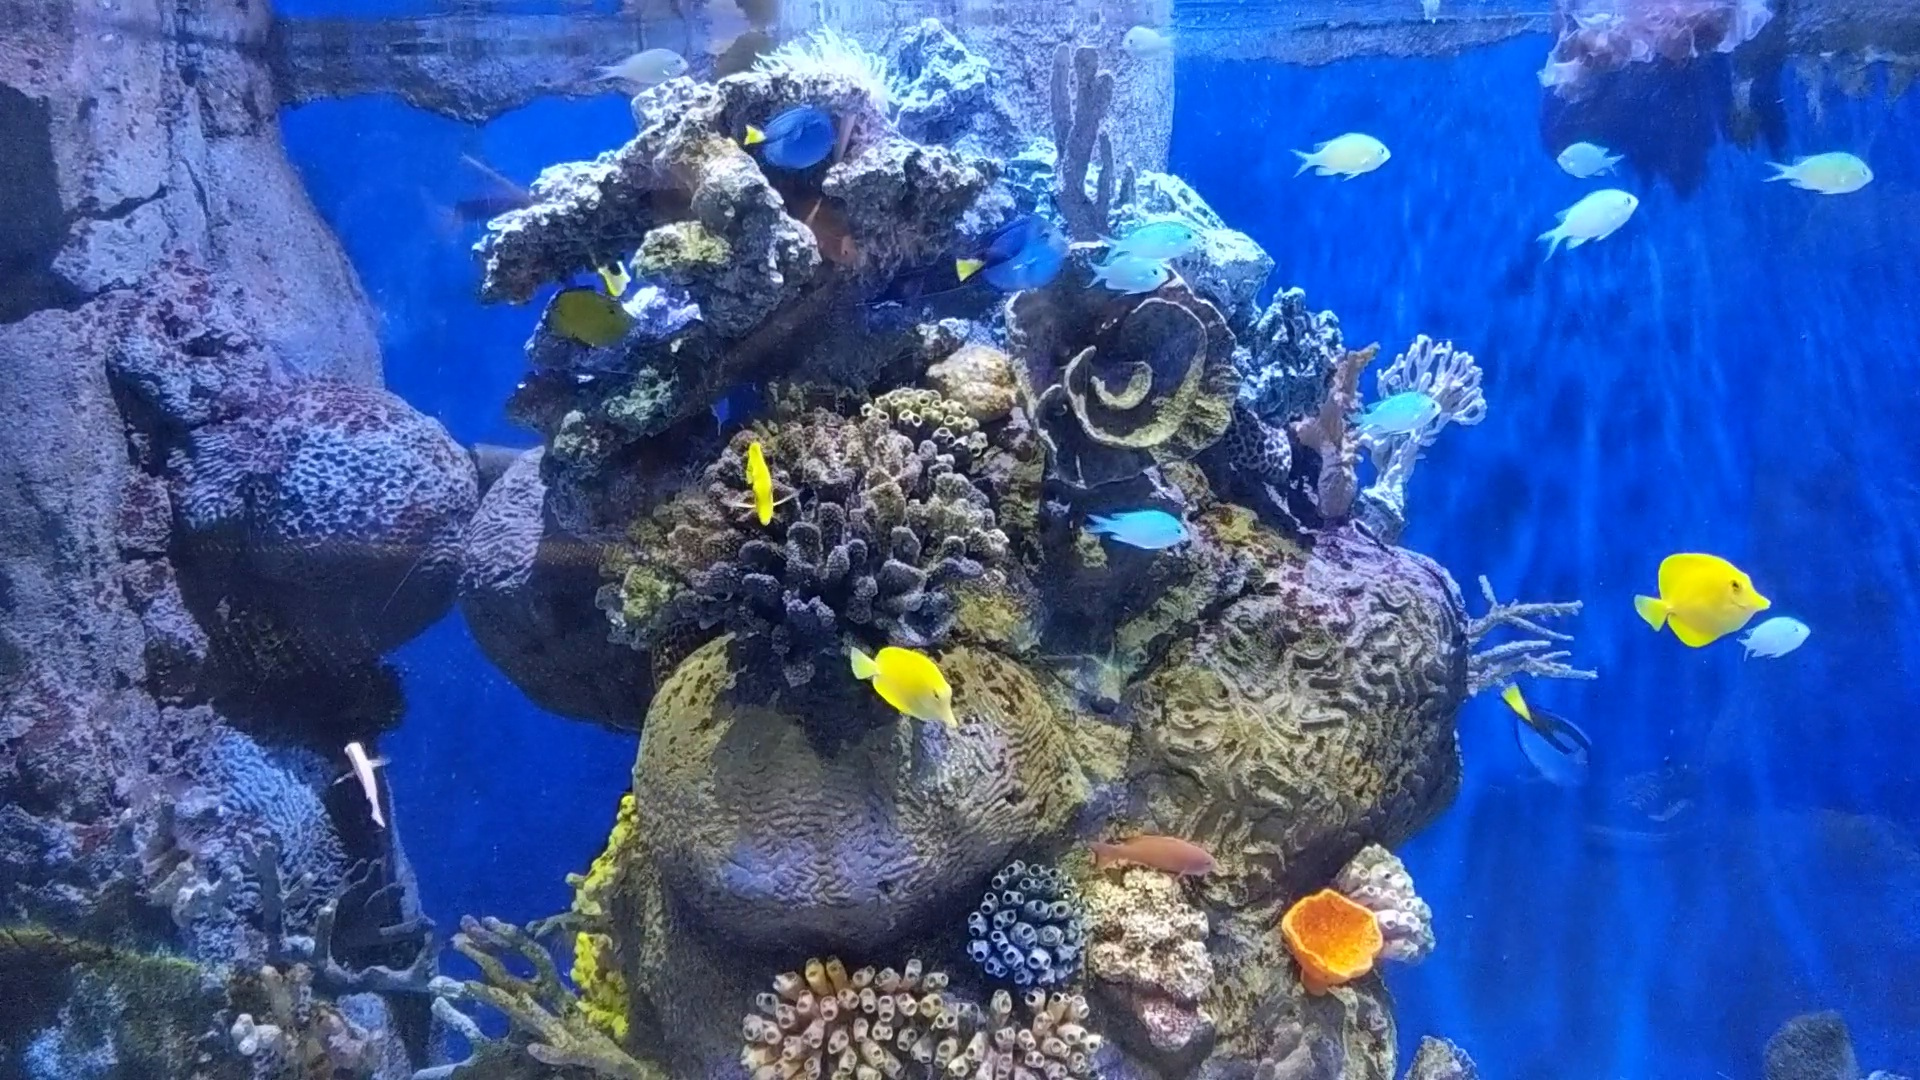blue tang surgeonfish: (1491, 676, 1600, 790), (949, 207, 1073, 298), (738, 105, 840, 175)
damselfish: (1538, 186, 1639, 264), (1073, 508, 1192, 559), (1290, 129, 1395, 181), (1340, 389, 1447, 439), (1096, 222, 1217, 262), (591, 44, 695, 87), (1766, 152, 1876, 193), (1085, 248, 1174, 290), (1741, 615, 1811, 663), (1553, 140, 1629, 181), (1121, 22, 1183, 65)
saddle butterfly fish: (1631, 546, 1774, 651), (837, 628, 965, 727), (543, 285, 658, 357), (736, 425, 791, 529)
